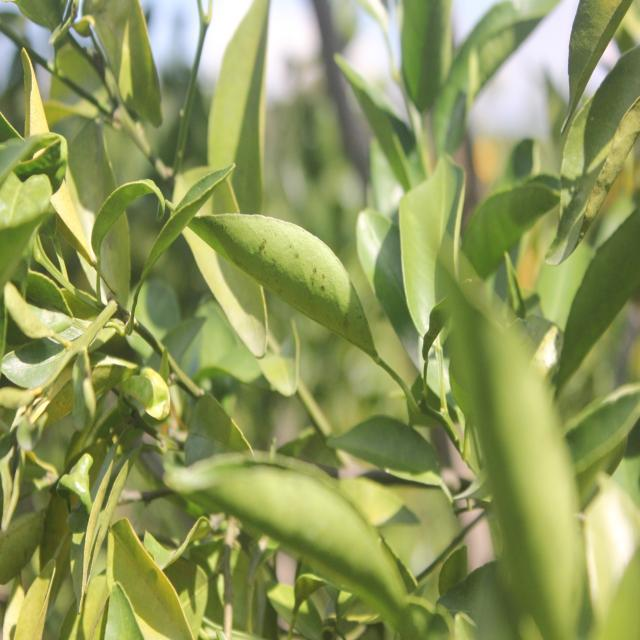melanose: (224, 209, 378, 353)
